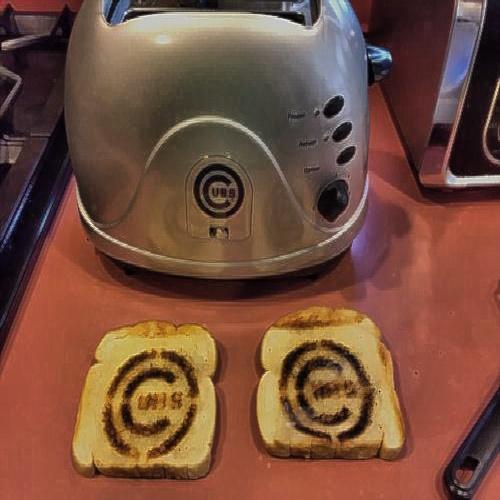toaster: (69, 9, 367, 284)
